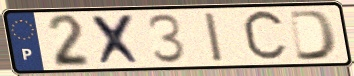2: (45, 13, 93, 71)
3: (146, 12, 188, 65)
C: (240, 7, 291, 66)
D: (286, 8, 340, 62)
I: (202, 11, 227, 64)
X: (88, 12, 146, 67)
